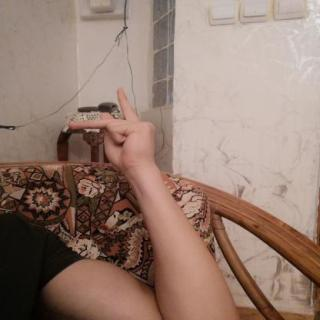DHAA: (59, 81, 162, 177)
